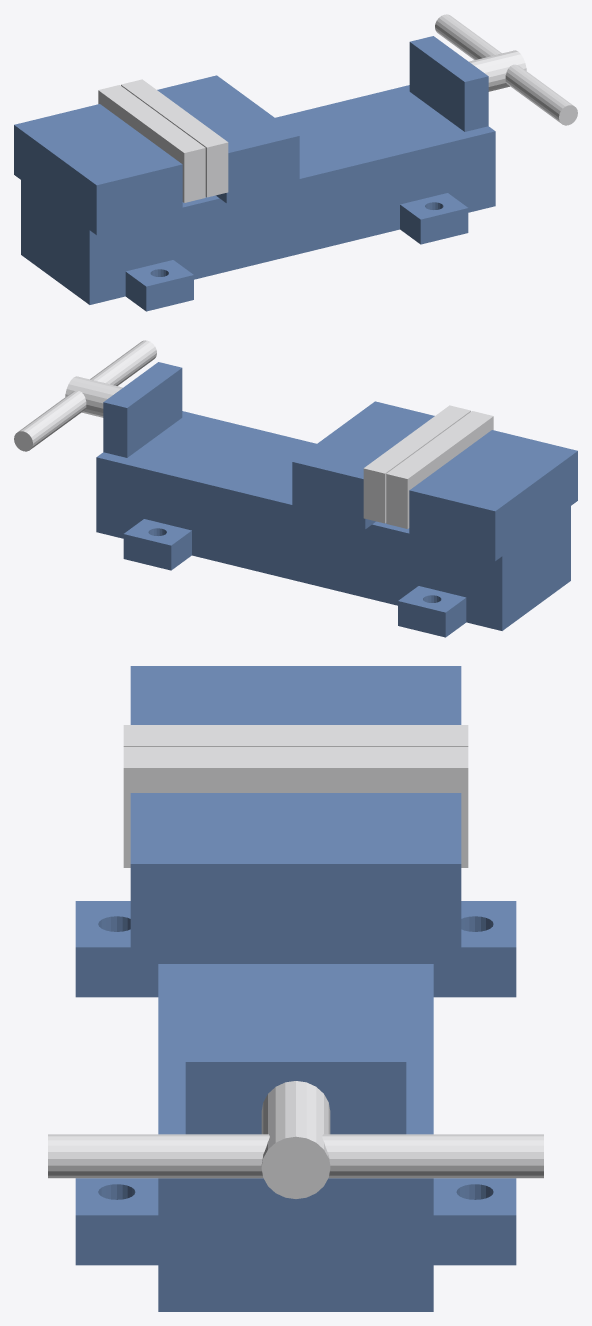
Rendered from vise-machine.glb.
3 renders of one model, top to bottom at view 1: azimuth 30°, elevation 25°; view 2: azimuth 150°, elevation 25°; view 3: azimuth 270°, elevation 25°, orthographic. The views are drawn at different scales.
Parts seen in each view (by area): view 1: body, jaw; view 2: body, jaw; view 3: body, jaw.
Part boxes in pixels (<box>): body: <box>14,14,577,311</box>; jaw: <box>121,75,299,203</box>; body: <box>14,340,577,637</box>; jaw: <box>292,401,470,529</box>; body: <box>48,666,543,1311</box>; jaw: <box>123,747,468,963</box>.
Size of what is drawn, in the model's own units: 0.388 by 0.11 by 0.18.
